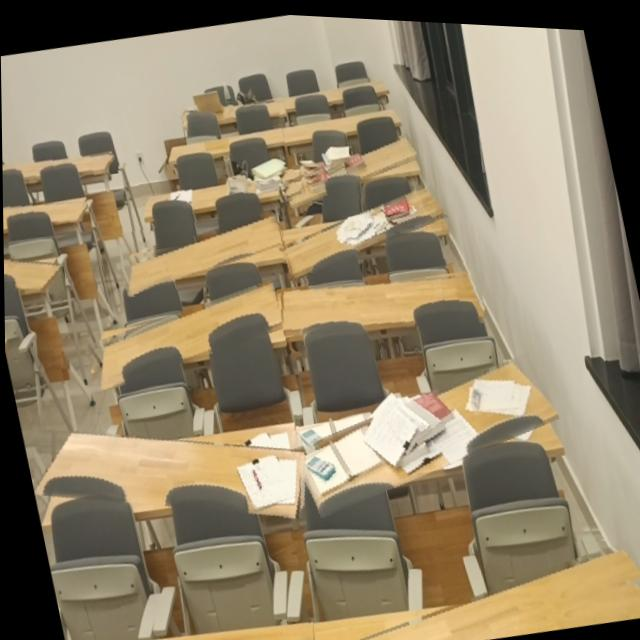Non-empty: (297, 355, 557, 514), (33, 433, 303, 514), (284, 183, 445, 277), (282, 133, 417, 206), (145, 163, 282, 219), (180, 99, 285, 121)
empty: (353, 543, 640, 640), (101, 277, 284, 391), (128, 209, 279, 295), (283, 270, 485, 327), (2, 153, 114, 184), (150, 619, 310, 640), (2, 203, 87, 225), (3, 262, 59, 291)
